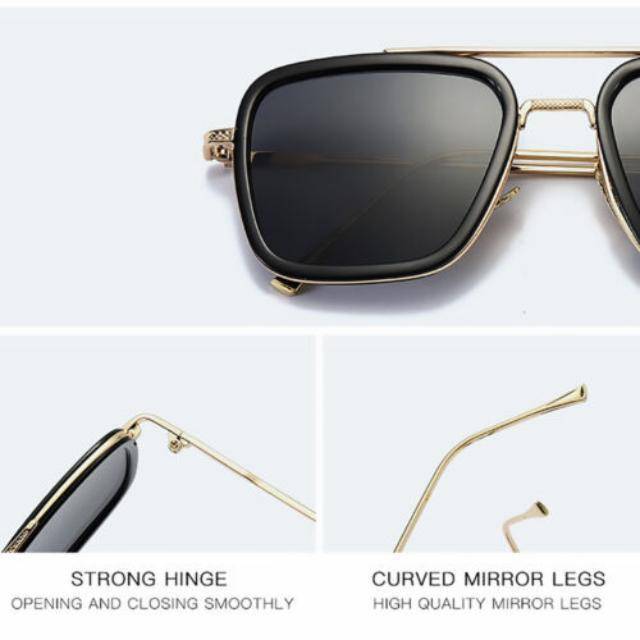glasses: (158, 38, 640, 306), (10, 344, 316, 550)
